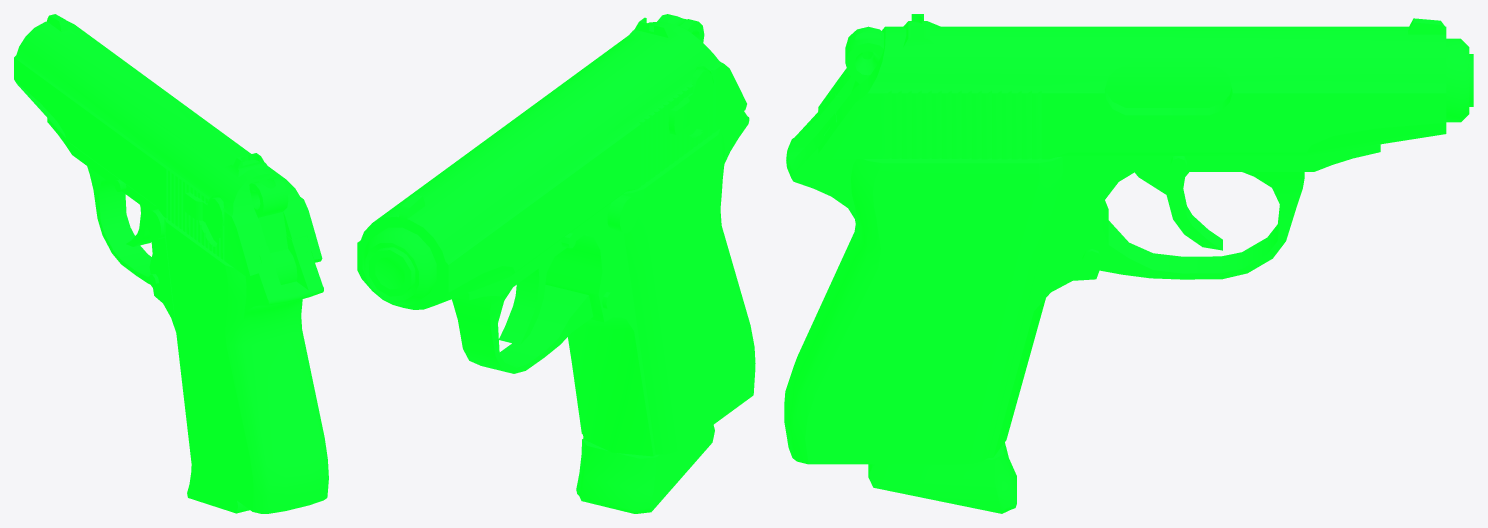
The model's file is makarov.fbx.
3 renders of one model, left to right at view 1: azimuth 30°, elevation 25°; view 2: azimuth 150°, elevation 25°; view 3: azimuth 270°, elevation 25°, orthographic. The views are drawn at different scales.
Parts seen in each view (by area): view 1: Body, Slide, Hammer, Magazine, Trigger; view 2: Body, Slide, Magazine, Trigger, Hammer; view 3: Body, Slide, Magazine, Trigger, Hammer.
Part boxes in pixels (bbox=[...]): Body: bbox=[47, 118, 328, 513]; Slide: bbox=[14, 14, 322, 278]; Hammer: bbox=[249, 177, 297, 284]; Magazine: bbox=[187, 465, 249, 513]; Trigger: bbox=[126, 206, 151, 246]; Body: bbox=[369, 111, 755, 456]; Slide: bbox=[357, 17, 746, 309]; Magazine: bbox=[576, 425, 714, 513]; Trigger: bbox=[499, 257, 554, 344]; Hammer: bbox=[657, 14, 704, 42]; Body: bbox=[784, 54, 1473, 464]; Slide: bbox=[818, 14, 1469, 159]; Magazine: bbox=[868, 442, 1016, 513]; Trigger: bbox=[1135, 172, 1222, 250]; Hammer: bbox=[845, 26, 883, 92].
Bounding box in the file's own units: 129 × 564 × 741.
